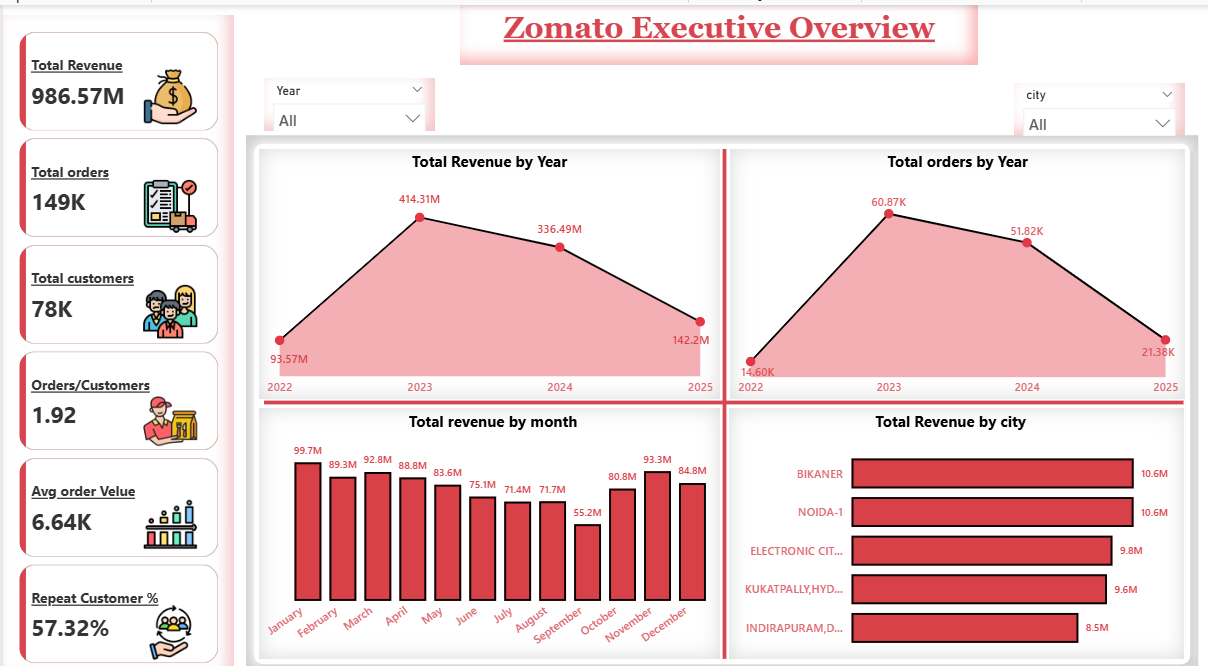

This screenshot's page, from the dashboard's own definition file:
{"tool":"powerbi","page":{"name":" Executive Overview","canvas":[1280,720],"ordinal":0},"visuals":[{"type":"shape","box":[257.7,138.4,1010,569.4],"z":0},{"type":"clusteredColumnChart","title":"Total revenue by month","fields":{"Category":["zomato_analytics viw_orders.order_date.Variation.Date Hierarchy.Month"],"Y":["zomato_analytics viw_orders.Total Revenue1"]},"box":[272,427.9,488.3,265.6],"z":1000},{"type":"clusteredBarChart","fields":{"Category":["zomato_analytics viw_restaurants.city"],"Y":["zomato_analytics viw_orders.Total Revenue1"]},"box":[769.9,427.9,482,265.6],"z":2000},{"type":"lineChart","title":"Total Revenue by Year","fields":{"Category":["zomato_analytics viw_orders.order_date.Variation.Date Hierarchy.Year"],"Y":["zomato_analytics viw_orders.Total Revenue1"]},"box":[272,152.7,488,265.6],"z":3000},{"type":"lineChart","fields":{"Y":["select","zomato_analytics viw_orders.Total orders1"],"Category":["zomato_analytics viw_orders.order_date.Variation.Date Hierarchy.Year"]},"box":[771.4,152.7,482,265.6],"z":4000},{"type":"cardVisual","fields":{"Data":["zomato_analytics viw_orders.Total Revenue","zomato_analytics viw_orders.Total orders","zomato_analytics viw_orders.Total customers","zomato_analytics viw_orders.Orders per customers","zomato_analytics viw_orders.Avg order Velue","zomato_analytics vw_customer_metrics.Repeat Customer %"]},"box":[0,11.4,245.2,707.9],"z":5000},{"type":"textbox","box":[485.1,0,548.8,63.6],"z":6000},{"type":"slicer","fields":{"Values":["zomato_analytics viw_orders.order_date.Variation.Date Hierarchy.Year"]},"box":[276.8,77.9,181.3,55.7],"z":7000},{"type":"slicer","fields":{"Values":["zomato_analytics viw_restaurants.city"]},"box":[1072.1,82.7,181.3,55.7],"z":8000},{"type":"shape","box":[758.7,152.7,12.7,540.8],"z":10000},{"type":"shape","box":[276.8,415.1,975,12.7],"z":11000},{"type":"image","box":[138.4,68,77.9,58],"z":12000},{"type":"image","box":[138.4,184,77.9,58],"z":13000},{"type":"image","box":[138.4,296,77.9,58.9],"z":14000},{"type":"image","box":[138.4,412,77.9,58.9],"z":15000},{"type":"image","box":[138.4,521.7,77.9,58],"z":16000},{"type":"image","box":[138.4,636.2,77.9,58],"z":17000}]}

Visuals, with their boxes in screenshot pixels (x1, y1, x2, y2), scaled from the page's 1280x720 canvas onto the 1208x666 screenshot:
shape: locate(243, 128, 1196, 655)
"Total revenue by month" clusteredColumnChart: locate(257, 396, 718, 641)
clusteredBarChart - zomato_analytics viw_restaurants.city x zomato_analytics viw_orders.Total Revenue1: locate(727, 396, 1181, 641)
"Total Revenue by Year" lineChart: locate(257, 141, 717, 387)
lineChart - select x zomato_analytics viw_orders.Total orders1: locate(728, 141, 1183, 387)
cardVisual - zomato_analytics viw_orders.Total Revenue x zomato_analytics viw_orders.Total orders: locate(0, 11, 231, 665)
textbox: locate(458, 0, 976, 59)
slicer - zomato_analytics viw_orders.order_date.Variation.Date Hierarchy.Year: locate(261, 72, 432, 124)
slicer - zomato_analytics viw_restaurants.city: locate(1012, 76, 1183, 128)
shape: locate(716, 141, 728, 641)
shape: locate(261, 384, 1181, 396)
image: locate(131, 63, 204, 117)
image: locate(131, 170, 204, 224)
image: locate(131, 274, 204, 328)
image: locate(131, 381, 204, 436)
image: locate(131, 483, 204, 536)
image: locate(131, 588, 204, 642)
